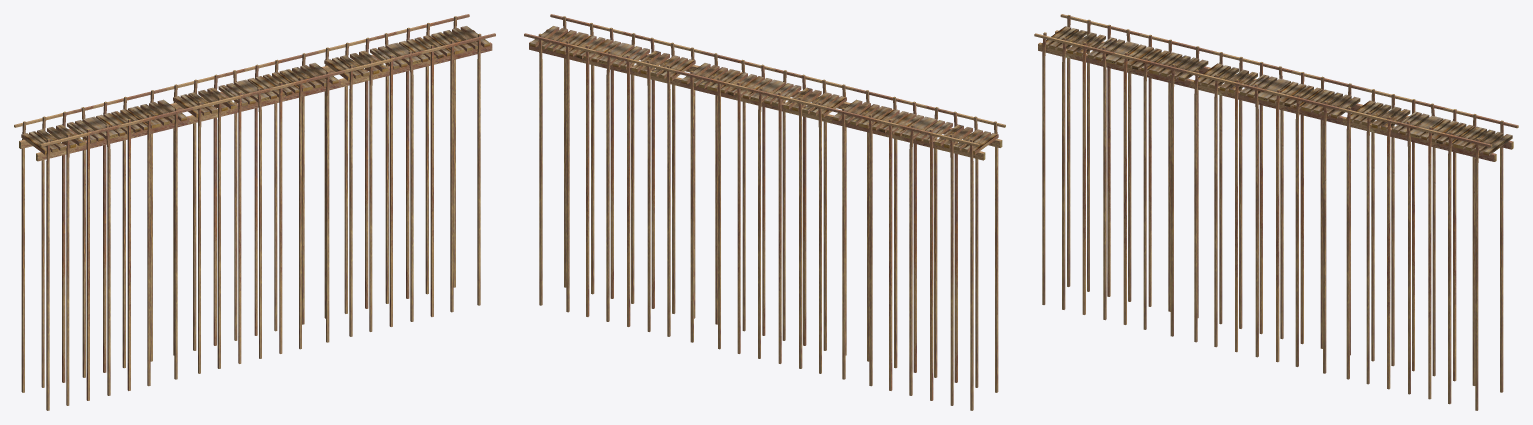
Rendered from pier.fbx.
The picture shows the model from 3 angles, left to right: view 1: azimuth 30°, elevation 25°; view 2: azimuth 150°, elevation 25°; view 3: azimuth 330°, elevation 25°; orthographic projection.
Parts seen in each view (by area): view 1: pier; view 2: pier; view 3: pier.
Boxes of the visible parts, x1,y1,x2,y2 form: pier: (14,14,495,410); pier: (524,14,1005,410); pier: (1034,14,1518,410).
Size of the model in its own units: 9.12 by 5.18 by 0.9527.
